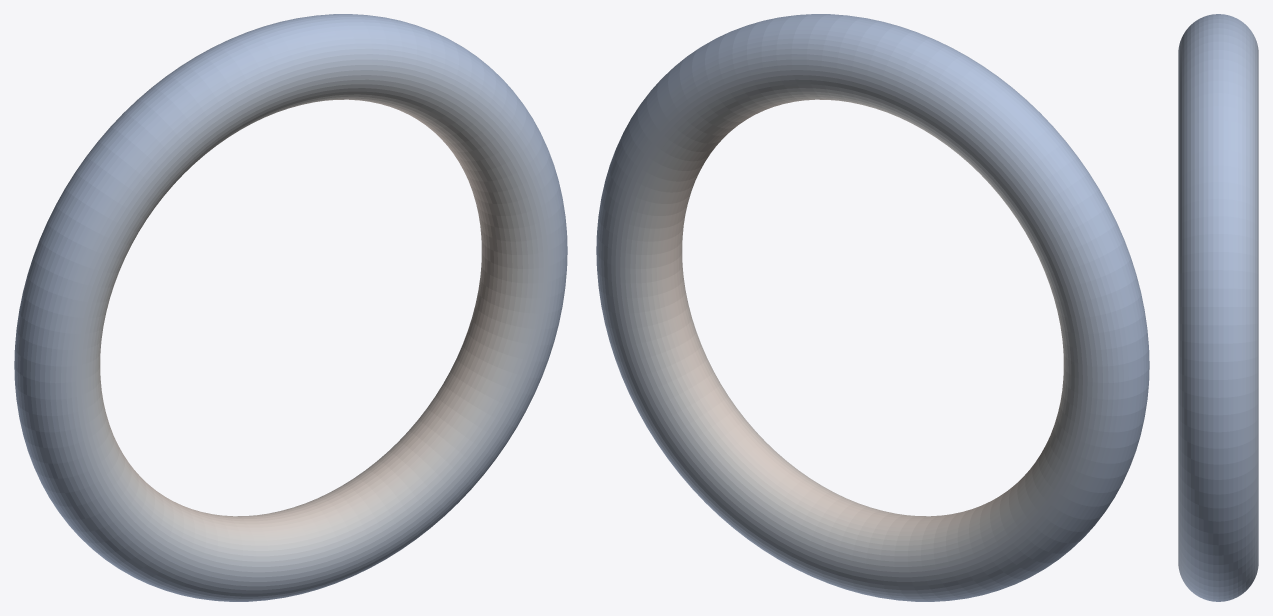
3 views of the same model, side by side, from view 1: azimuth 30°, elevation 25°; view 2: azimuth 150°, elevation 25°; view 3: azimuth 270°, elevation 25° (orthographic). The views are drawn at different scales.
Visible parts, largest first — view 1: world; view 2: world; view 3: world.
Boxes of the visible parts, x1,y1,x2,y2 form: world: (14, 14, 567, 601); world: (596, 14, 1149, 601); world: (1178, 14, 1258, 601).
Bounding box in the file's own units: 30.13 × 30.13 × 4.13.
